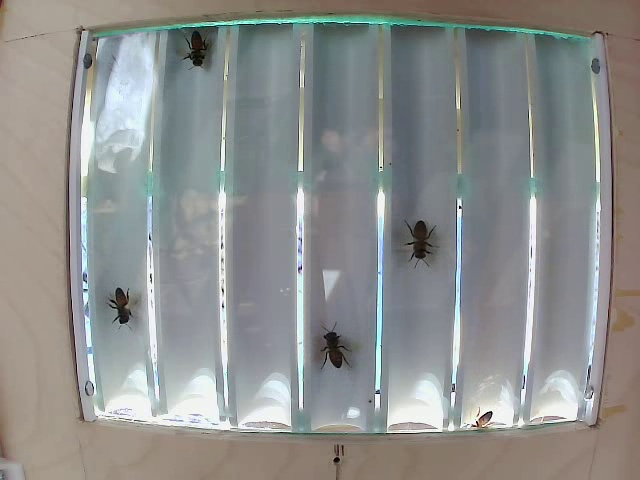bee: (401, 209, 452, 269), (107, 295, 148, 343), (322, 321, 355, 378), (184, 40, 214, 82)
